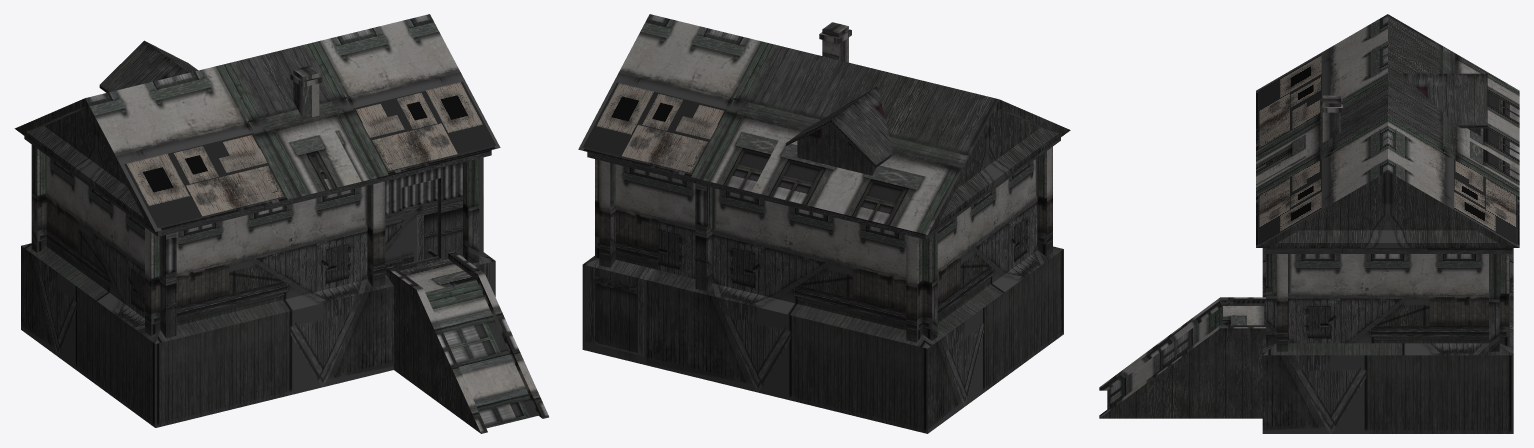
File: RurHut_07.FBX
3 renders of one model, left to right at view 1: azimuth 30°, elevation 25°; view 2: azimuth 150°, elevation 25°; view 3: azimuth 270°, elevation 25°, orthographic. The views are drawn at different scales.
Parts seen in each view (by area): view 1: hut; view 2: hut; view 3: hut.
Boxes of the visible parts, box(x1,y1,x2,y2) form: hut: box(14, 14, 548, 433); hut: box(578, 14, 1070, 433); hut: box(1099, 14, 1519, 433).
Size of the model in its own units: 8.07 by 6.34 by 9.12.
